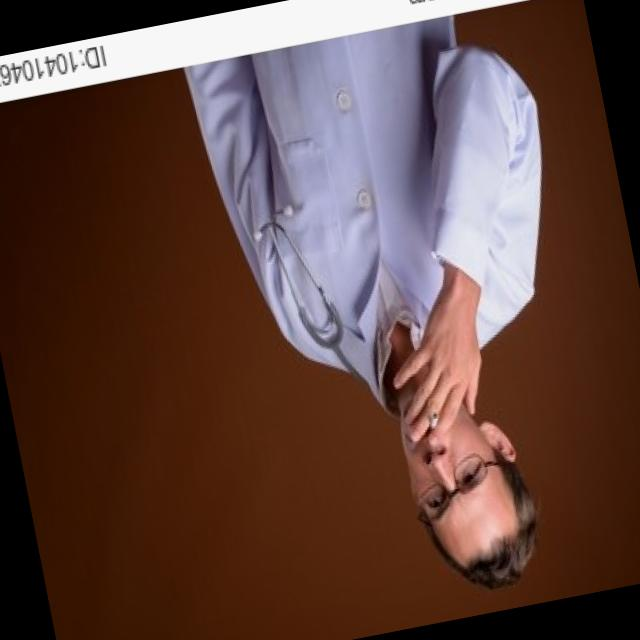cigarette: (428, 408, 441, 434)
